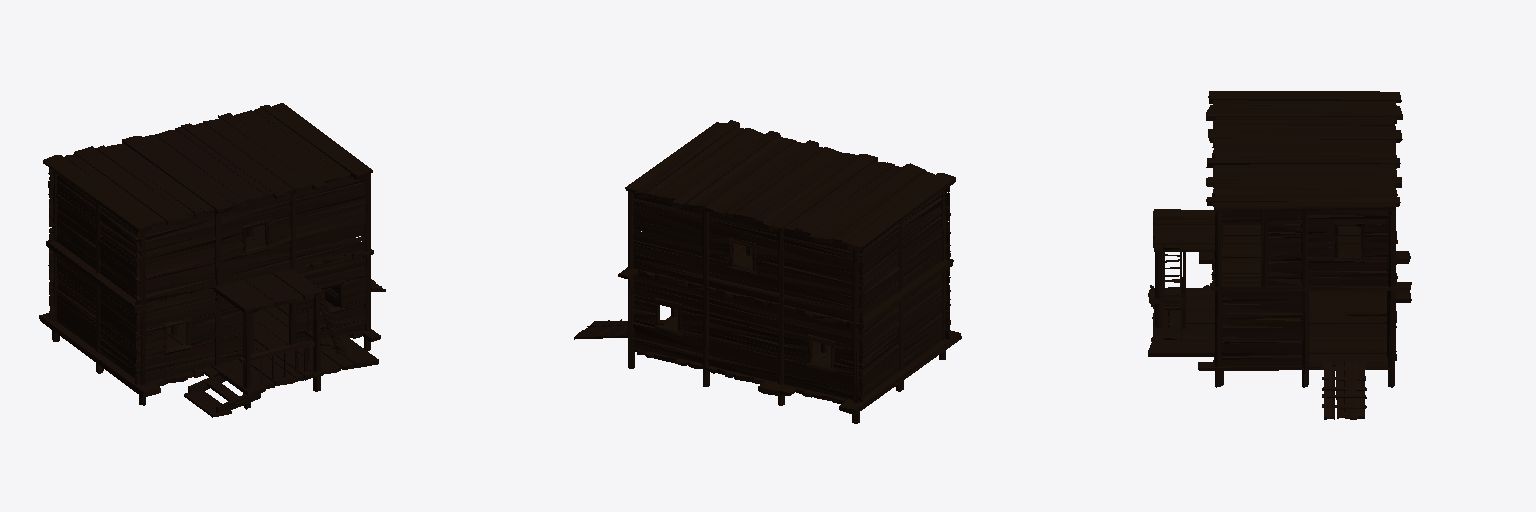
Rendered from -LOD1_hut_005.obj.
The picture shows the model from 3 angles: view 1: azimuth 30°, elevation 25°; view 2: azimuth 150°, elevation 25°; view 3: azimuth 270°, elevation 25°; orthographic projection.
Visible parts, largest first — view 1: Cylinder.000_Cylinder.001; view 2: Cylinder.000_Cylinder.001; view 3: Cylinder.000_Cylinder.001.
Part boxes in pixels (x1,y1,x2,y2): Cylinder.000_Cylinder.001: (39,103,385,417); Cylinder.000_Cylinder.001: (574,120,961,423); Cylinder.000_Cylinder.001: (1148,91,1411,419).
Size of the model in its own units: 16.4 by 9.31 by 12.23.